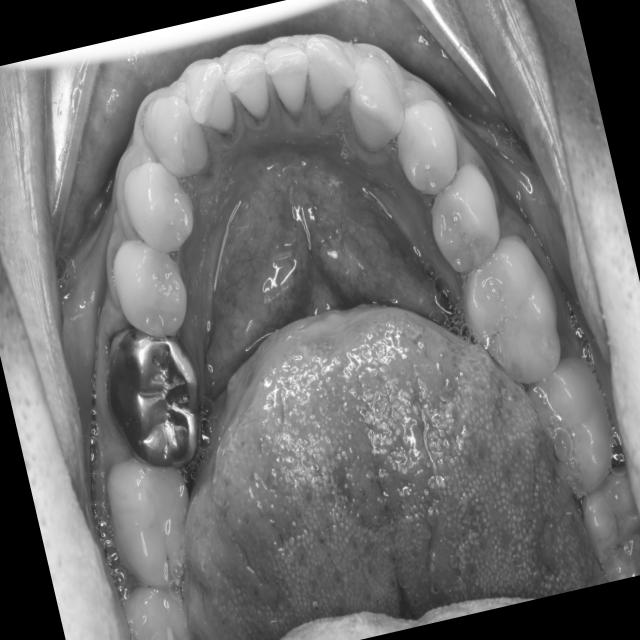tooth: (441, 212, 584, 420), (85, 304, 230, 499), (93, 439, 220, 613), (515, 345, 630, 511), (101, 220, 204, 354), (415, 152, 516, 287), (329, 32, 428, 169), (383, 82, 475, 213), (134, 87, 229, 200), (290, 9, 374, 133), (116, 151, 209, 262), (567, 459, 640, 585), (215, 40, 292, 149), (175, 50, 252, 158), (253, 29, 322, 124), (111, 567, 198, 640)
